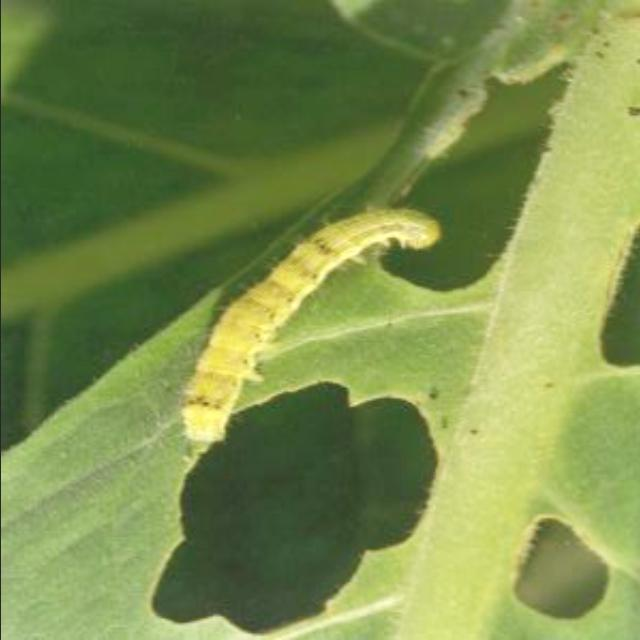Cotton bollworm: (128, 162, 464, 468)
